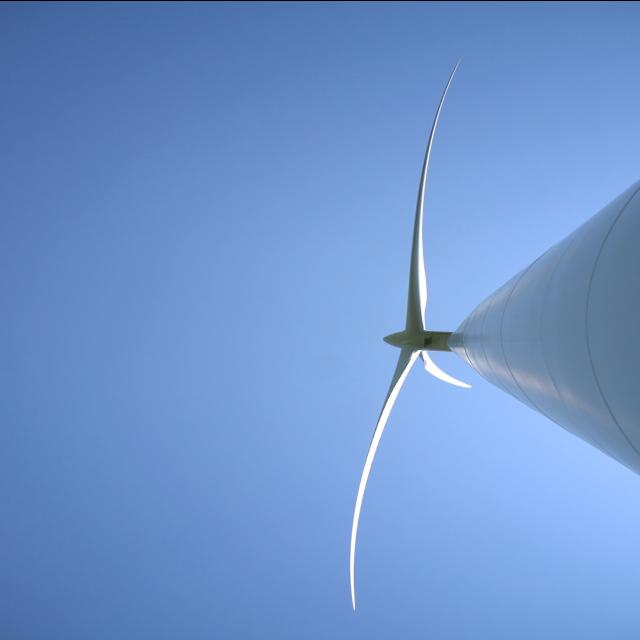blade 1: (399, 44, 467, 310)
blade 2: (428, 359, 472, 412)
blade 3: (324, 372, 399, 600)
